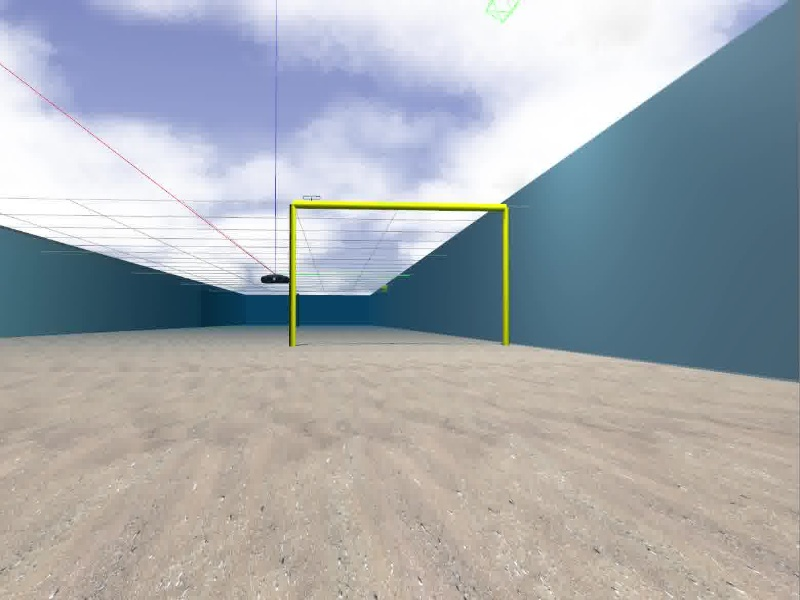gate: (289, 199, 510, 346)
